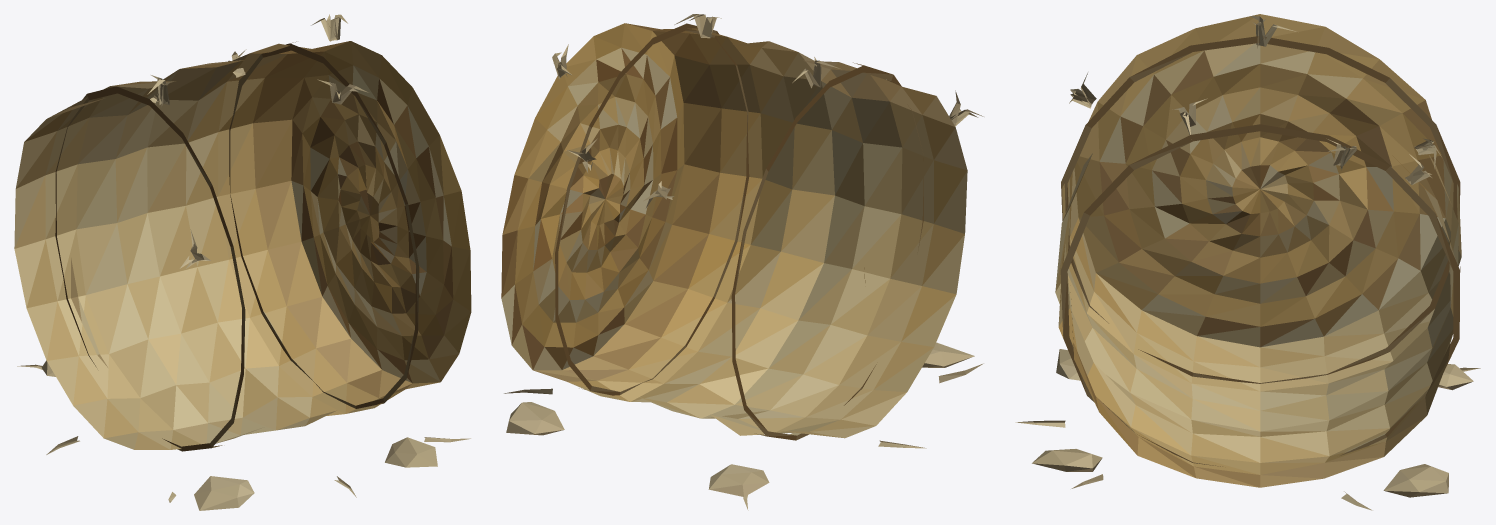
The model's file is haystack-full.glb.
3 views of the same model, side by side, from view 1: azimuth 30°, elevation 25°; view 2: azimuth 150°, elevation 25°; view 3: azimuth 270°, elevation 25° (orthographic). The views are drawn at different scales.
Parts seen in each view (by area): view 1: bale, twine, loose_straw; view 2: bale, loose_straw, twine; view 3: bale, twine, loose_straw.
Boxes of the visible parts, left/top/right/bottom form: bale: left=14, top=41, right=471, bottom=449; twine: left=55, top=41, right=419, bottom=451; loose_straw: left=17, top=14, right=470, bottom=510; bale: left=501, top=23, right=967, bottom=438; loose_straw: left=504, top=14, right=983, bottom=510; twine: left=555, top=23, right=923, bottom=440; bale: left=1055, top=14, right=1461, bottom=487; twine: left=1060, top=36, right=1460, bottom=466; loose_straw: left=1015, top=16, right=1480, bottom=510.
Size of the model in its own units: 1.59 by 1.48 by 1.68.
